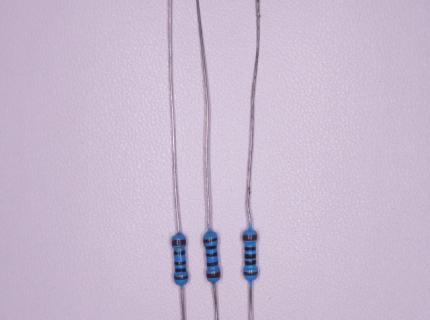Black band: (206, 251, 218, 257), (207, 261, 218, 267), (245, 253, 256, 259), (245, 260, 256, 266), (174, 260, 186, 265), (174, 250, 186, 255), (205, 245, 216, 250), (245, 246, 256, 251), (175, 268, 187, 272)
Brown band: (242, 234, 258, 241), (206, 271, 220, 279), (171, 239, 186, 246), (203, 237, 218, 244), (174, 275, 189, 281), (243, 271, 258, 275)
